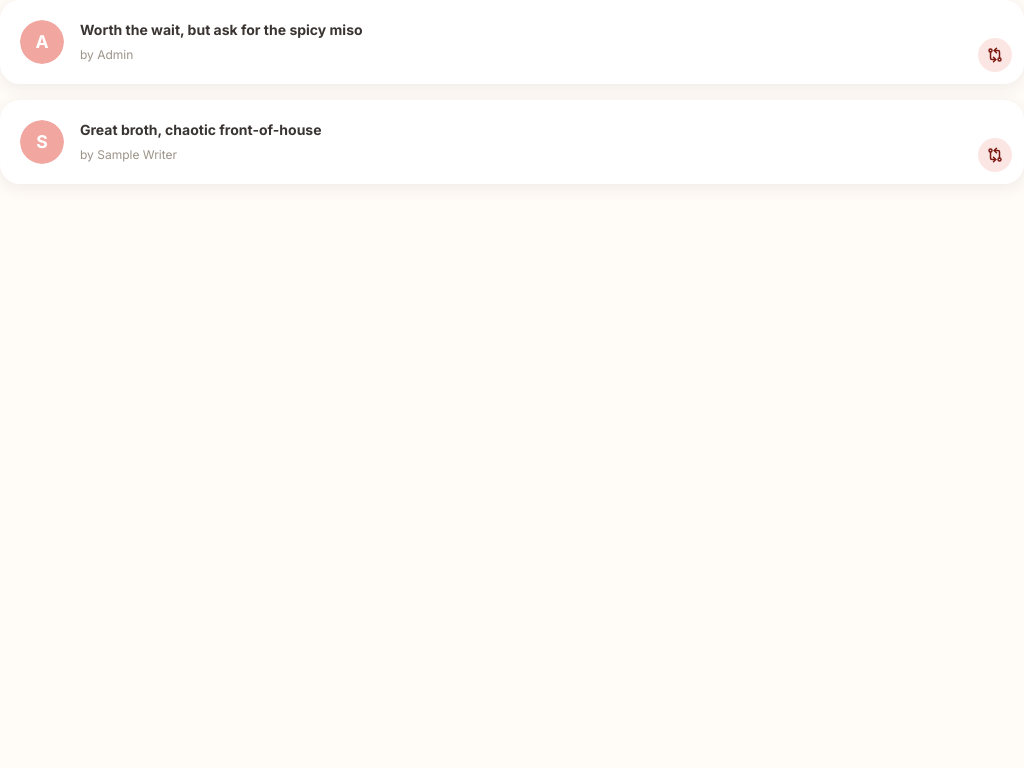
Scenario: ProductCompareSelector › deselects a review when its compare button is clicked again, without navigating
Click the button named "Compare Worth the wait, but ask for the spicy miso".
click(995, 55)  # box top-left (978, 38), bottom-right (1012, 72)
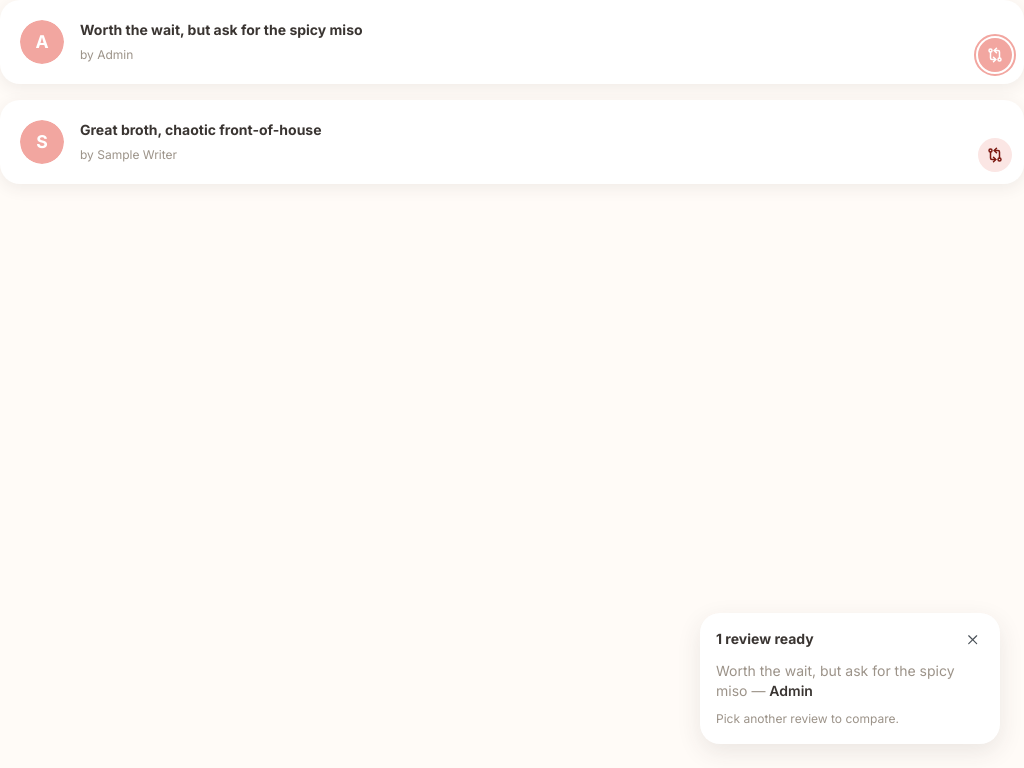
Expected: the text "1 review ready" is shown, top-left (716, 630), bottom-right (814, 650)
Click the button named "Remove Worth the wait, but ask for the spicy miso from compa".
click(995, 55)  # box top-left (978, 38), bottom-right (1012, 72)
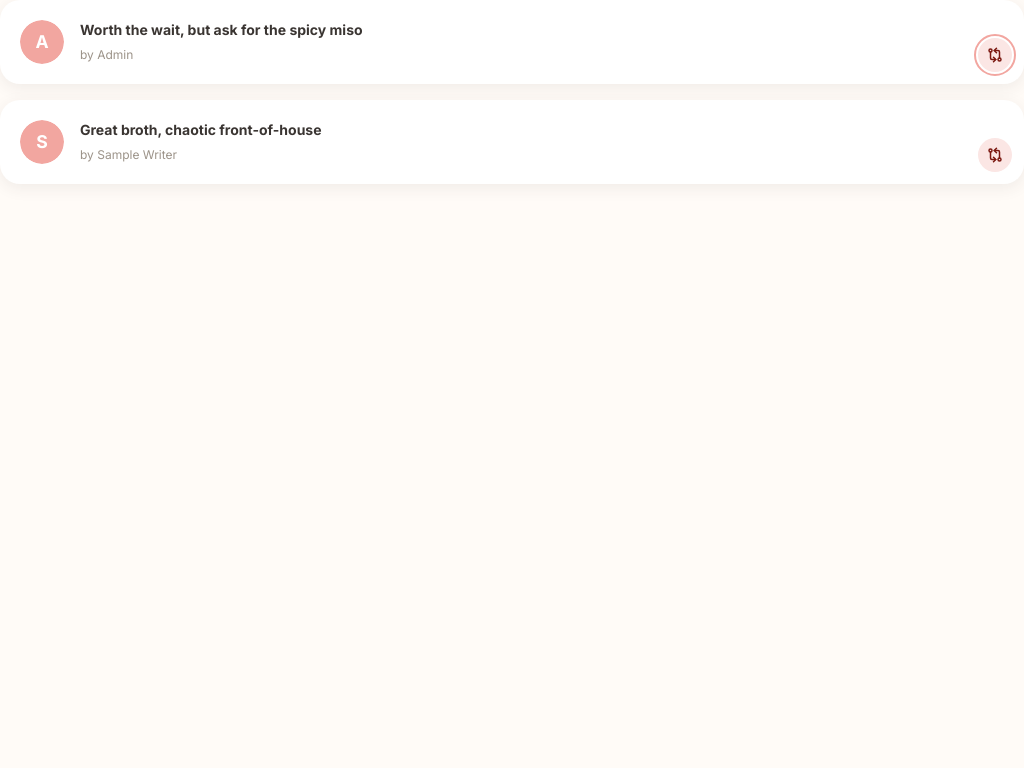
Expected: the text "1 review ready" is gone
